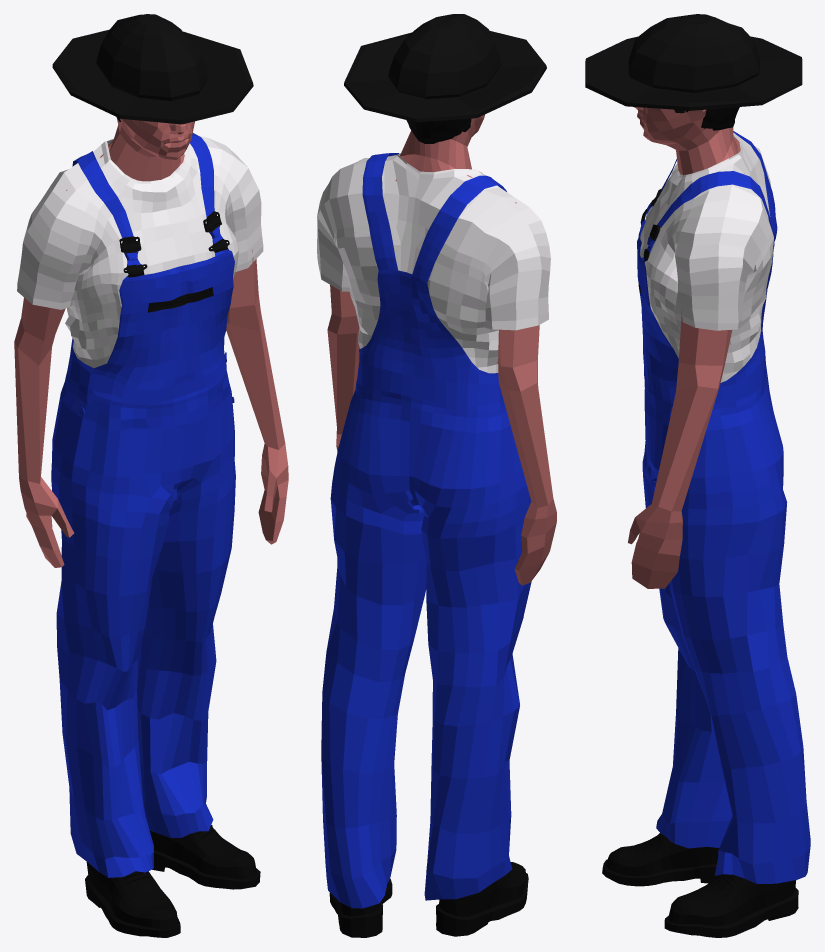
The model's file is workermanBlue.FBX.
3 renders of one model, left to right at view 1: azimuth 30°, elevation 25°; view 2: azimuth 150°, elevation 25°; view 3: azimuth 270°, elevation 25°, orthographic. The views are drawn at different scales.
Parts seen in each view (by area): view 1: Worker, Hat; view 2: Worker, Hat; view 3: Worker, Hat.
Boxes of the visible parts, x1=… form: Worker: x1=14, y1=117, x2=288, y2=937; Hat: x1=52, y1=14, x2=253, y2=124; Worker: x1=317, y1=114, x2=556, y2=937; Hat: x1=344, y1=14, x2=546, y2=122; Worker: x1=602, y1=107, x2=810, y2=937; Hat: x1=585, y1=14, x2=802, y2=110.
Bounding box in the file's own units: 0.517 × 1.84 × 0.4318.
